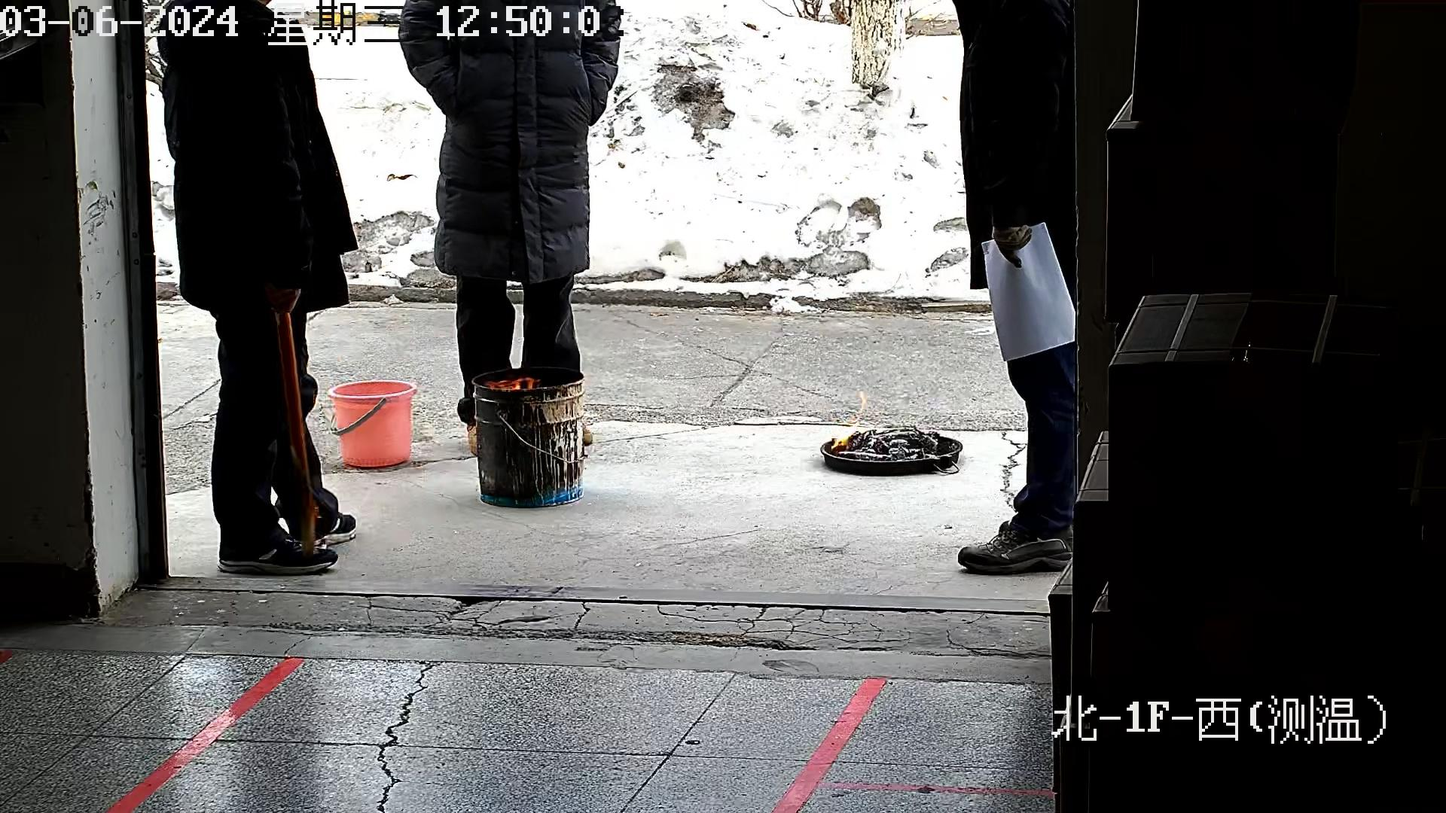fire: (483, 374, 539, 391)
